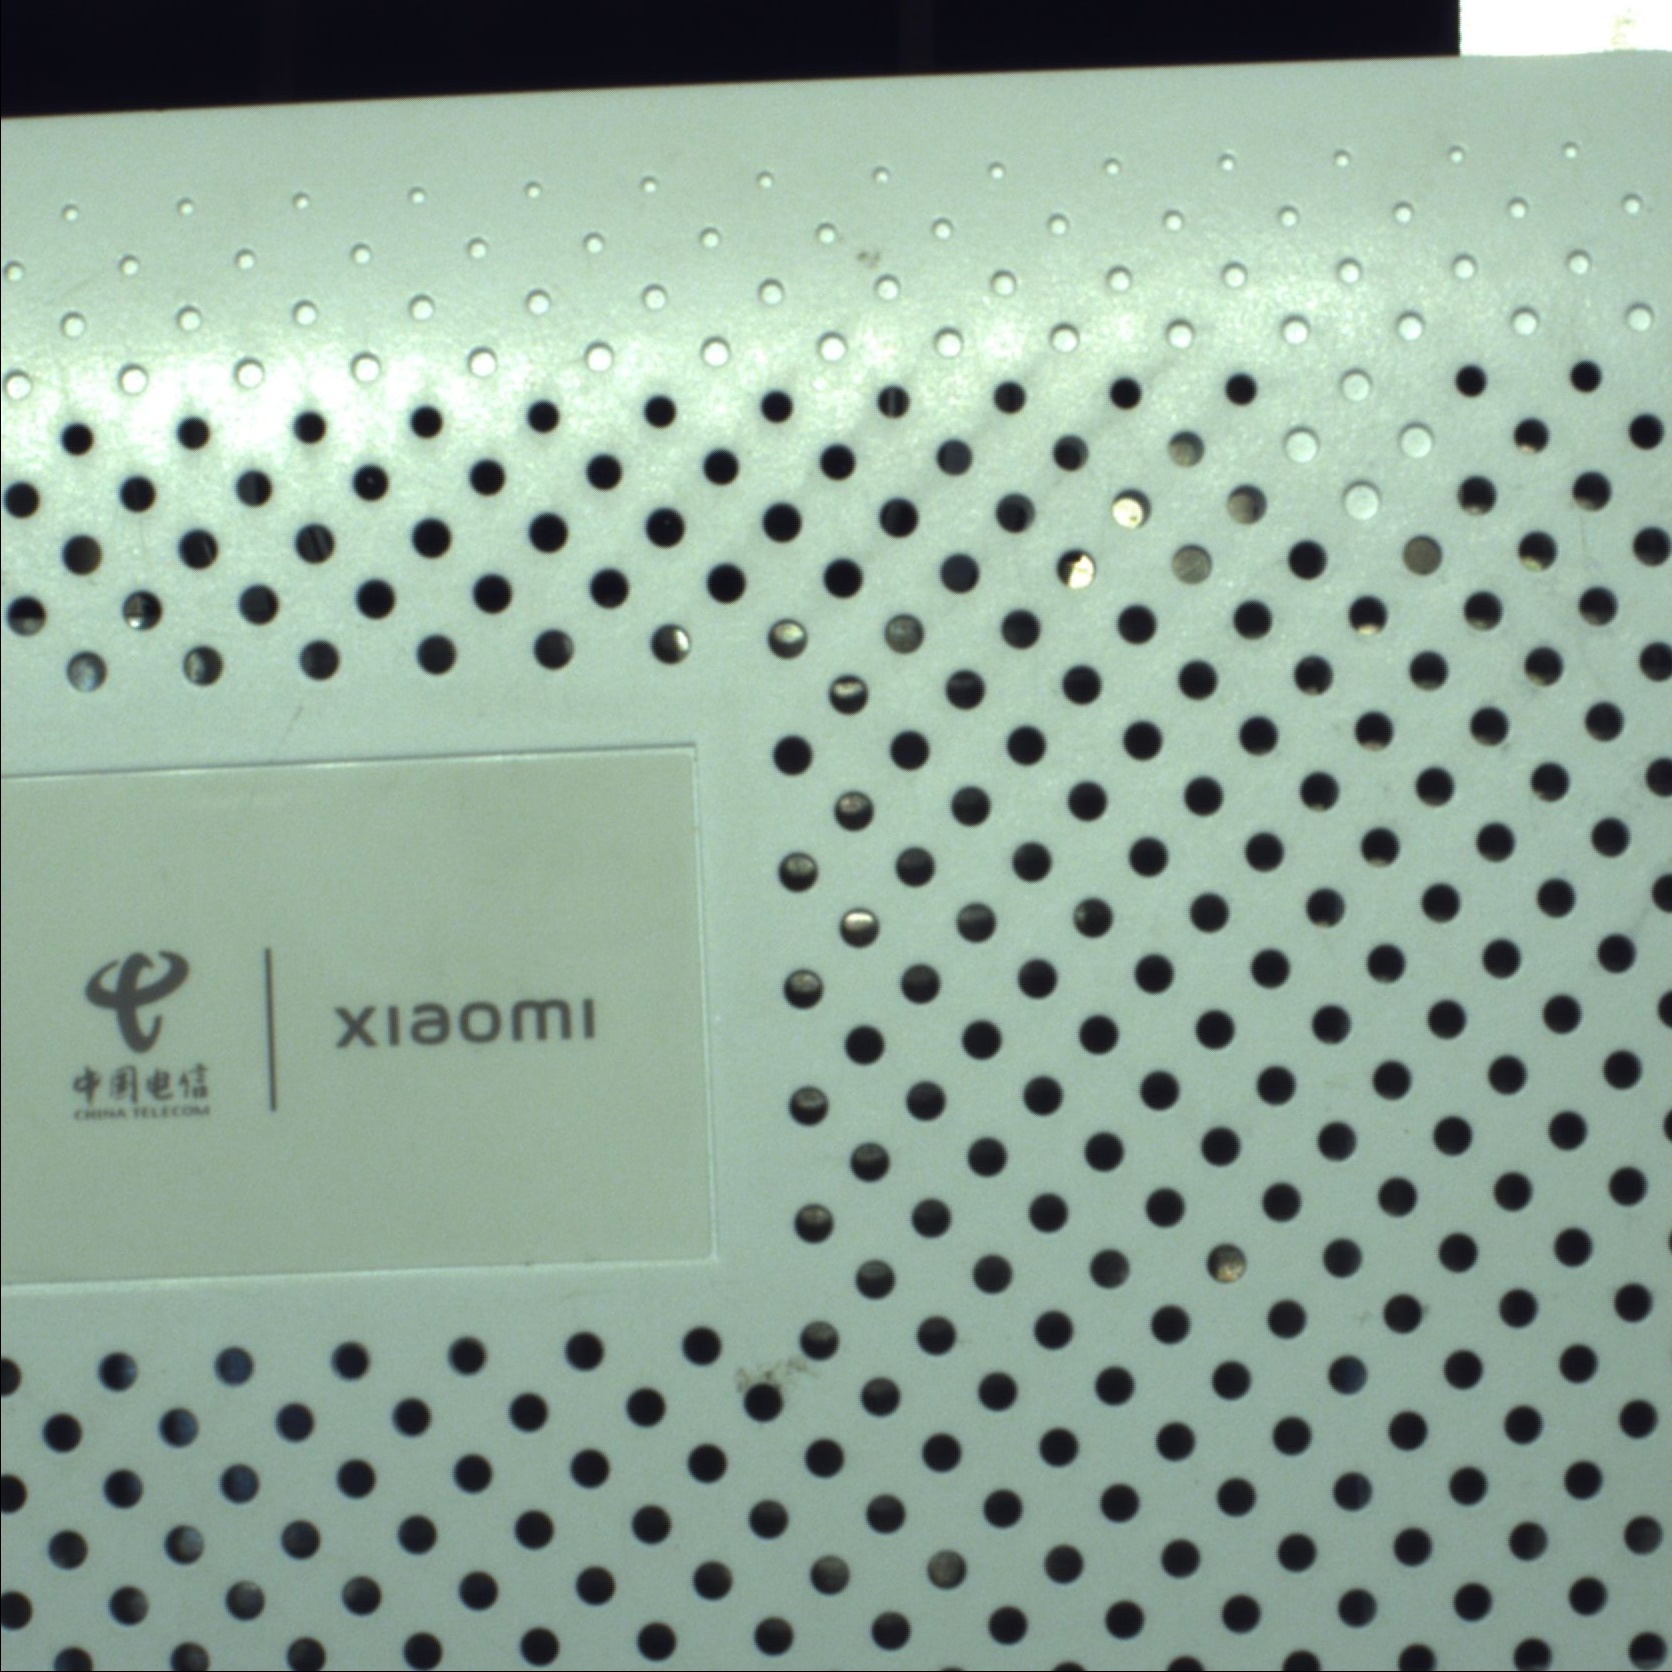MAA_Telecom: (47, 945, 606, 1138)
